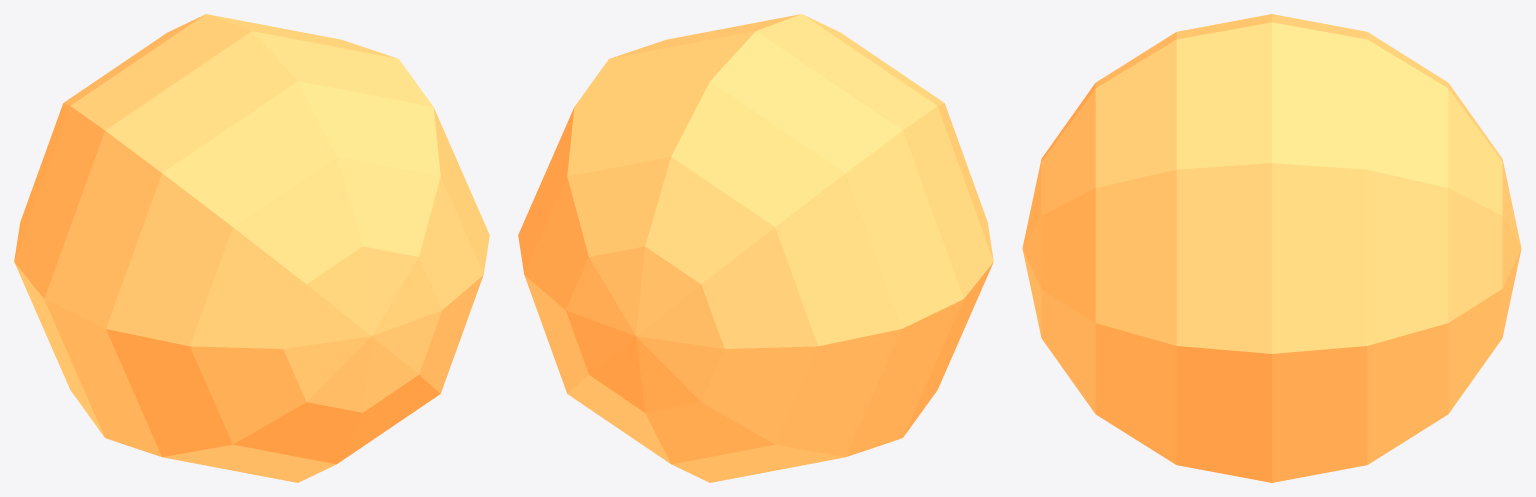
Rendered from fireball.glb.
3 views of the same model, side by side, from view 1: azimuth 30°, elevation 25°; view 2: azimuth 150°, elevation 25°; view 3: azimuth 270°, elevation 25° (orthographic). The views are drawn at different scales.
Visible parts, largest first — view 1: Sphere; view 2: Sphere; view 3: Sphere.
Part boxes in pixels (left/top/right/bottom): Sphere: left=14, top=14, right=489, bottom=482; Sphere: left=518, top=14, right=993, bottom=482; Sphere: left=1022, top=14, right=1521, bottom=482.
Bounding box in the file's own units: 0.1606 × 0.1606 × 0.1606.
